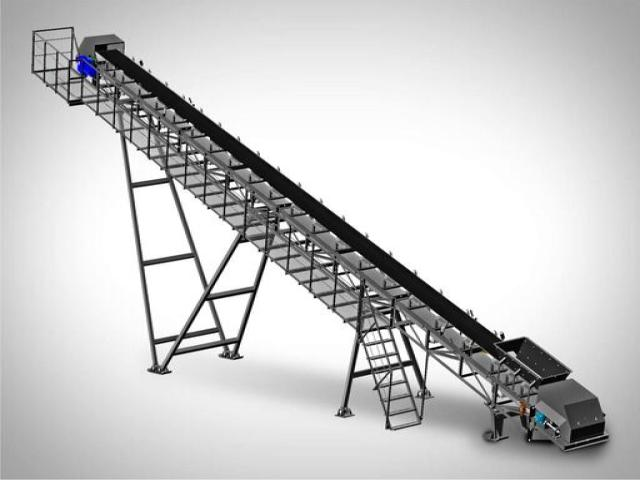conveyor: (26, 24, 610, 453)
